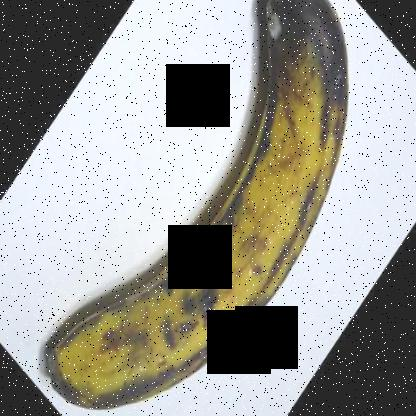overripe: (38, 1, 365, 415)
rotten: (224, 1, 354, 132)
